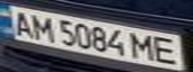0: (72, 21, 93, 50)
4: (106, 27, 130, 56)
5: (54, 17, 78, 47)
8: (90, 25, 109, 53)
A: (6, 8, 36, 38)
E: (151, 34, 184, 65)
M: (127, 30, 160, 61), (27, 12, 57, 43)
